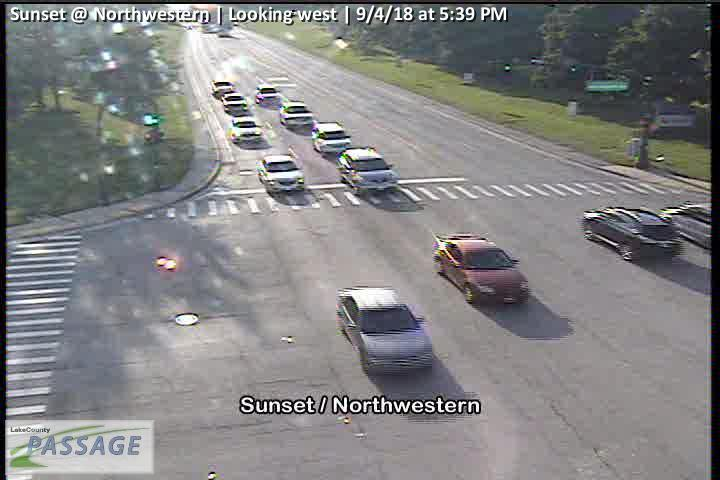SUV: (583, 208, 680, 261), (337, 148, 397, 195), (663, 202, 720, 250), (258, 154, 305, 192), (311, 120, 352, 154), (232, 116, 263, 145), (280, 101, 312, 128), (221, 92, 247, 114), (256, 86, 280, 107), (210, 80, 235, 98)
Sedan: (336, 286, 433, 374), (432, 233, 528, 308)
